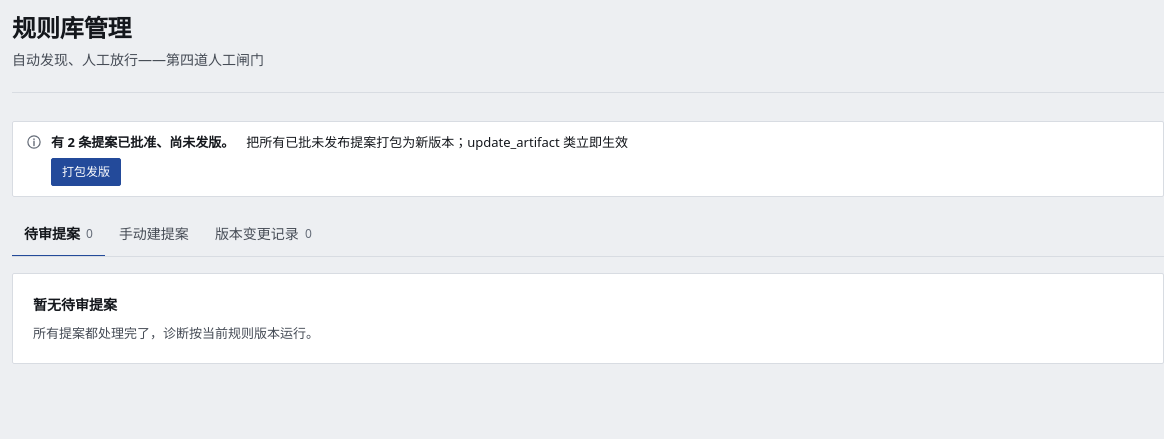
Test: RulesAdminClient（规则库：待审提案 / 手动建提案 / 版本记录） › 有已批准未发版的提案：提示条里说明数量并给「打包发版」，成功后写出版本号
Check: the text "有 2 条提案已批准、尚未发版。" is shown, box [51,132,234,152]
Step 1. Click the button "打包发版" → (86, 172), box [51,158,121,186]
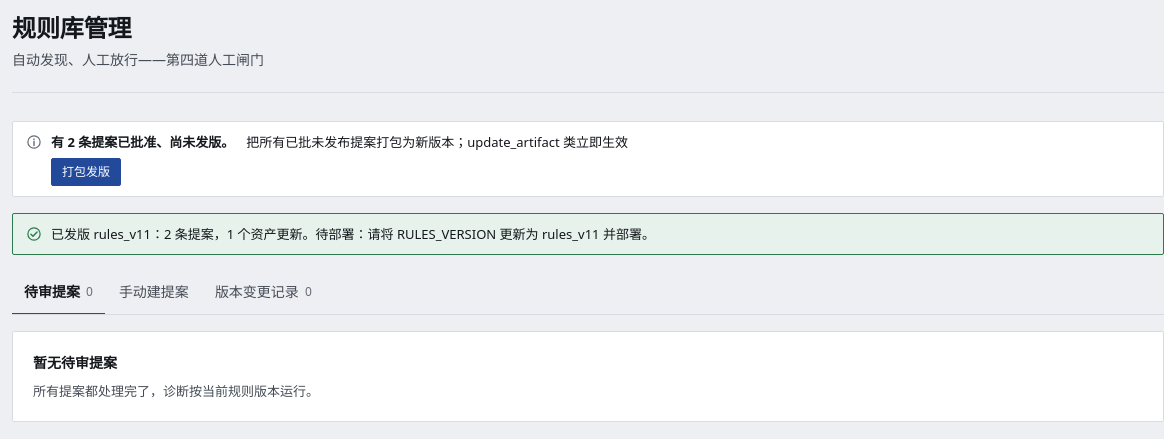
Check: the text "已发版 rules_v11：2 条提案，1 个资产更新" is shown, box [51,225,655,243]
